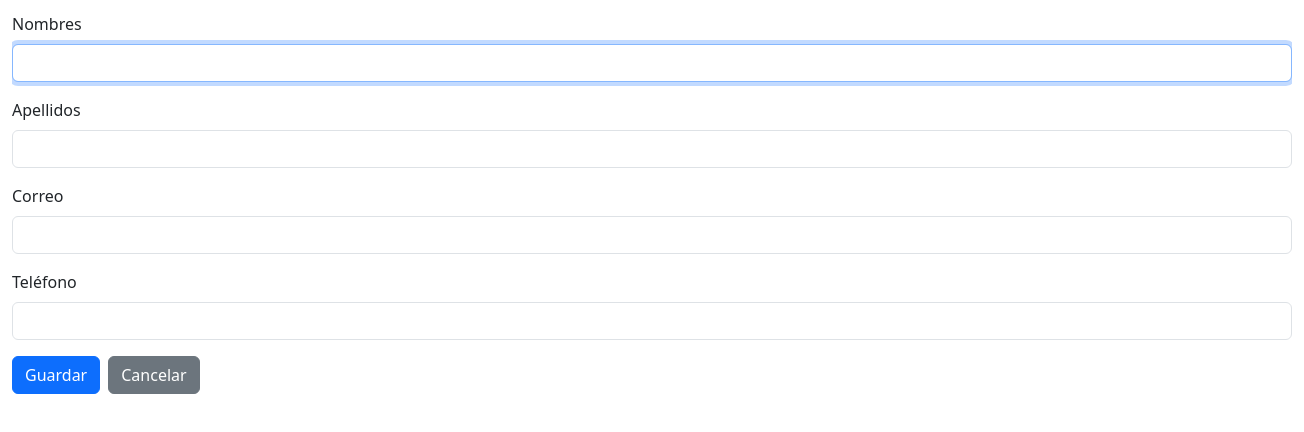
ClienteForm › debe_rechazar_correo_con_formato_invalido_solo_por_UX
In the field labelled "Nombres": (652, 63) [12,44,1292,82], type "A"
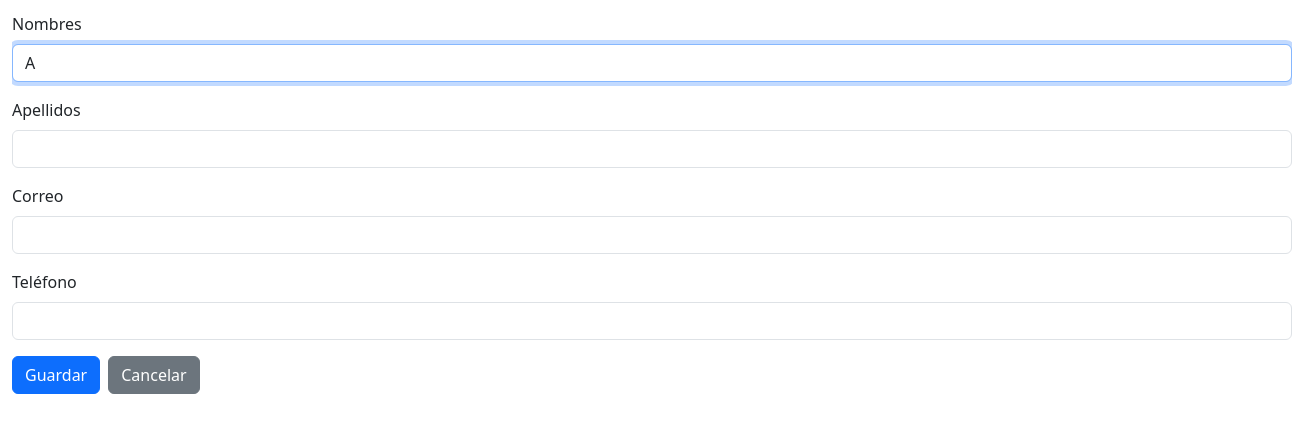
In the field labelled "Apellidos": (652, 149) [12,130,1292,168], type "B"
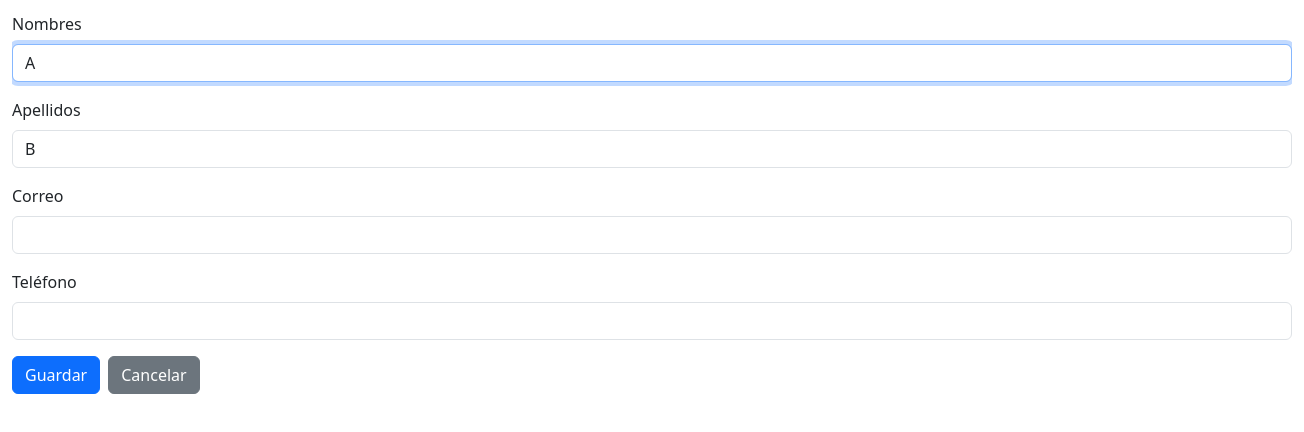
In the field labelled "Correo": (652, 235) [12,216,1292,254], type "no-es-correo"
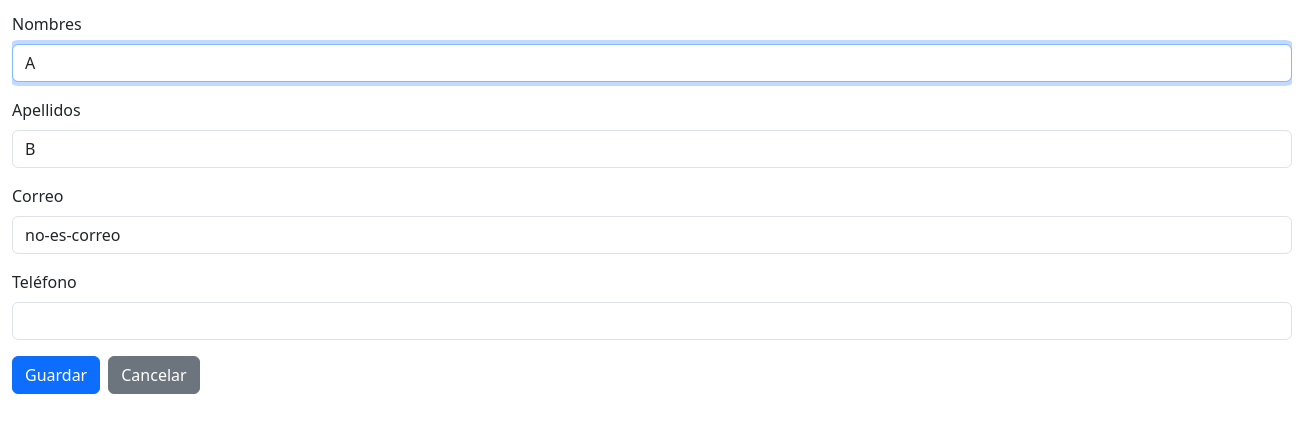
In the field labelled "Teléfono": (652, 321) [12,302,1292,340], type "1"
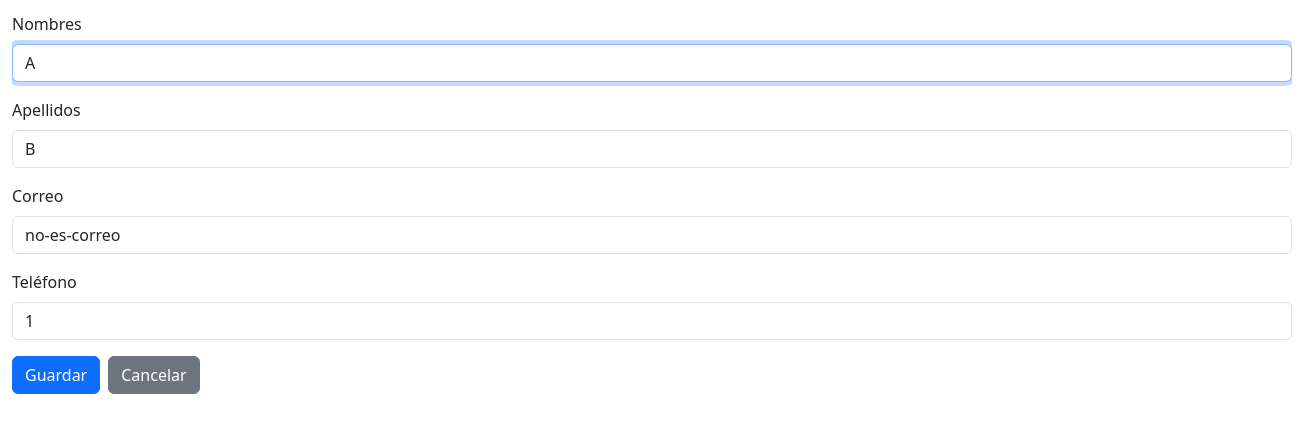
Submit the form
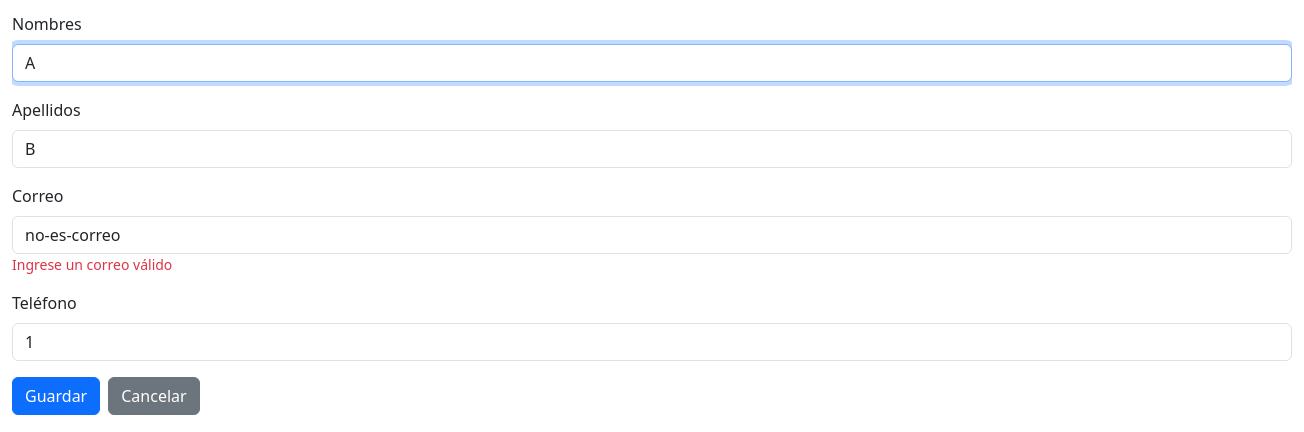
Expected: the form shows "Ingrese un correo válido", [12,255,172,274]
